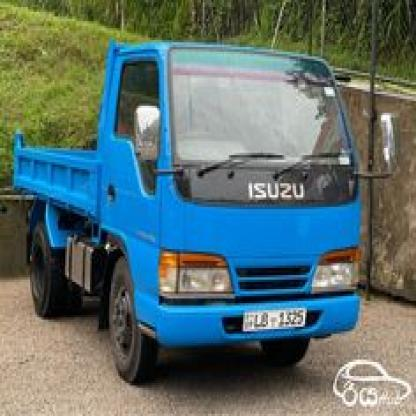Lorry front: (2, 30, 406, 384)
number plate: (242, 306, 306, 335)
